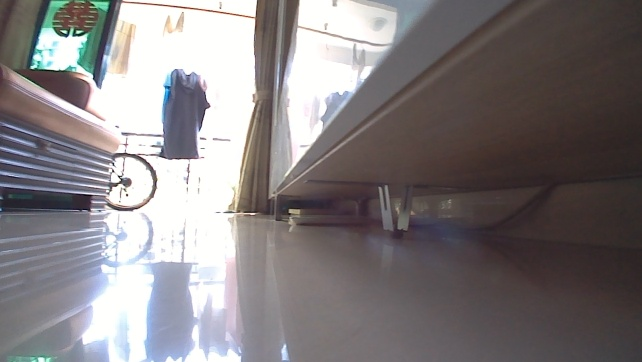sofa1: (0, 63, 123, 214)
weight_scale: (285, 214, 372, 228)
wire: (460, 184, 560, 235)
